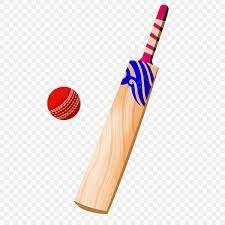bottom left: (66, 191, 82, 207)
bottom right: (97, 203, 113, 219)
top left: (123, 55, 136, 68)
top right: (151, 63, 163, 75)
